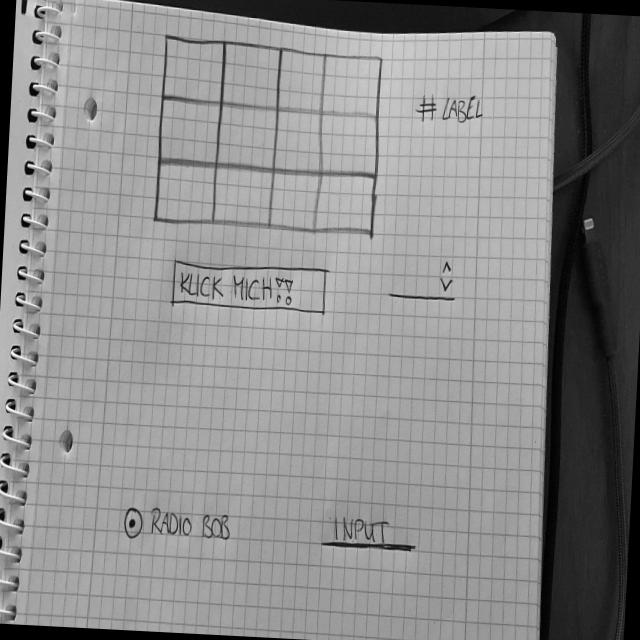button: (170, 259, 331, 320)
label: (320, 512, 422, 558), (416, 91, 488, 129)
number-input: (387, 259, 459, 306)
radio: (124, 503, 234, 549)
table: (154, 32, 388, 241)
